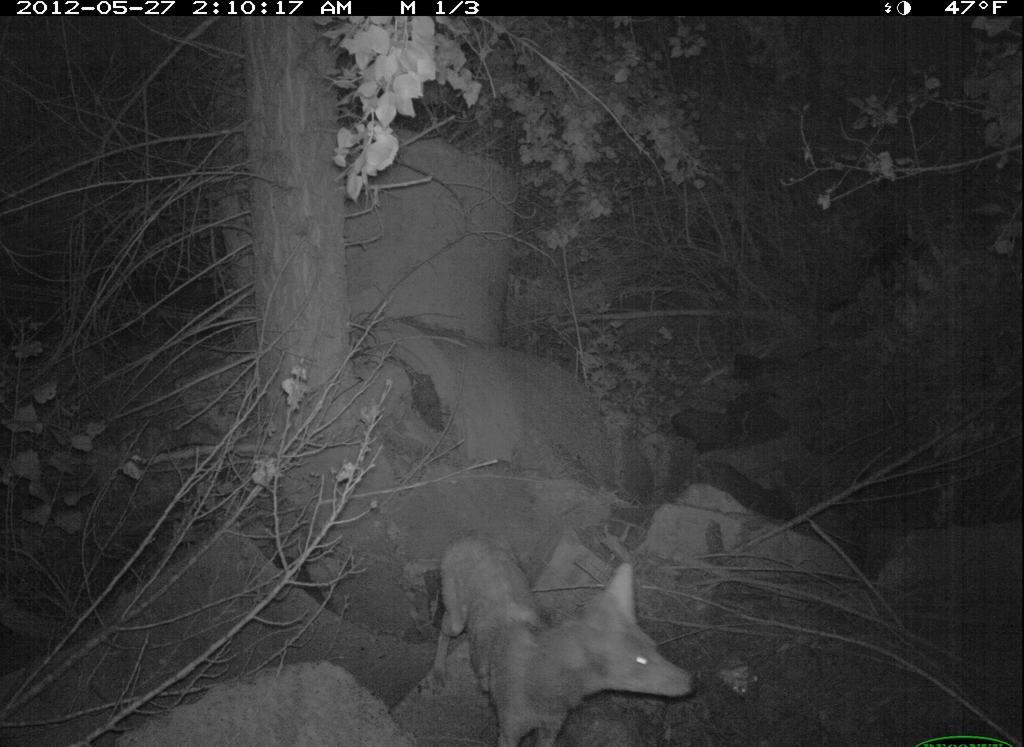coyote: (427, 507, 737, 747)
